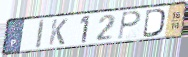1: (79, 15, 90, 45)
2: (95, 13, 117, 42)
D: (142, 8, 166, 39)
I: (34, 18, 46, 49)
K: (47, 17, 70, 46)
P: (117, 10, 143, 41)
